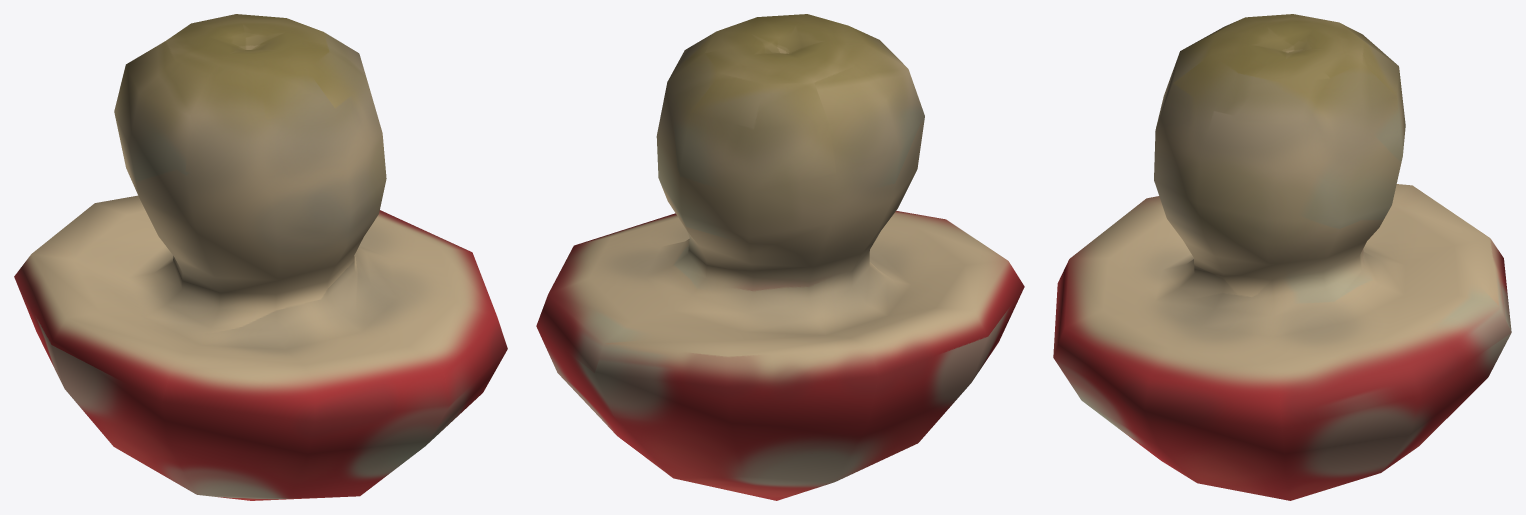
Rendered from mushroom.fbx.
3 views of the same model, side by side, from view 1: azimuth 30°, elevation 25°; view 2: azimuth 150°, elevation 25°; view 3: azimuth 270°, elevation 25° (orthographic). The views are drawn at different scales.
Visible parts, largest first — view 1: pCylinder1; view 2: pCylinder1; view 3: pCylinder1.
Part boxes in pixels (left/top/right/bottom): pCylinder1: left=14, top=14, right=507, bottom=500; pCylinder1: left=536, top=14, right=1024, bottom=500; pCylinder1: left=1053, top=14, right=1511, bottom=500.
Size of the model in its own units: 299 by 310 by 290.
